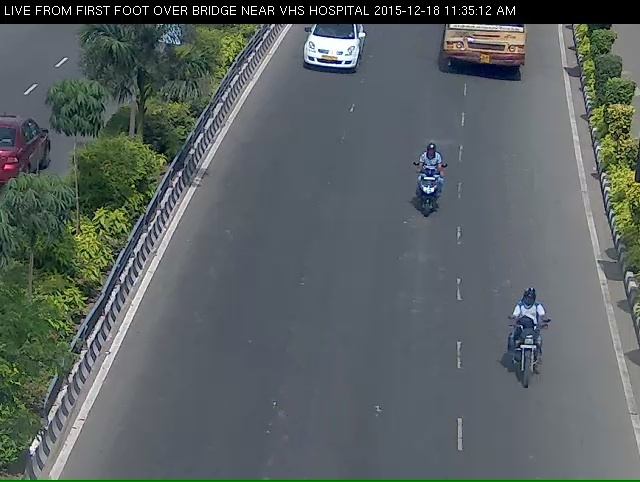Bus: (435, 19, 540, 85)
Car: (290, 18, 376, 83)
Person: (489, 302, 577, 424), (396, 150, 459, 231)
